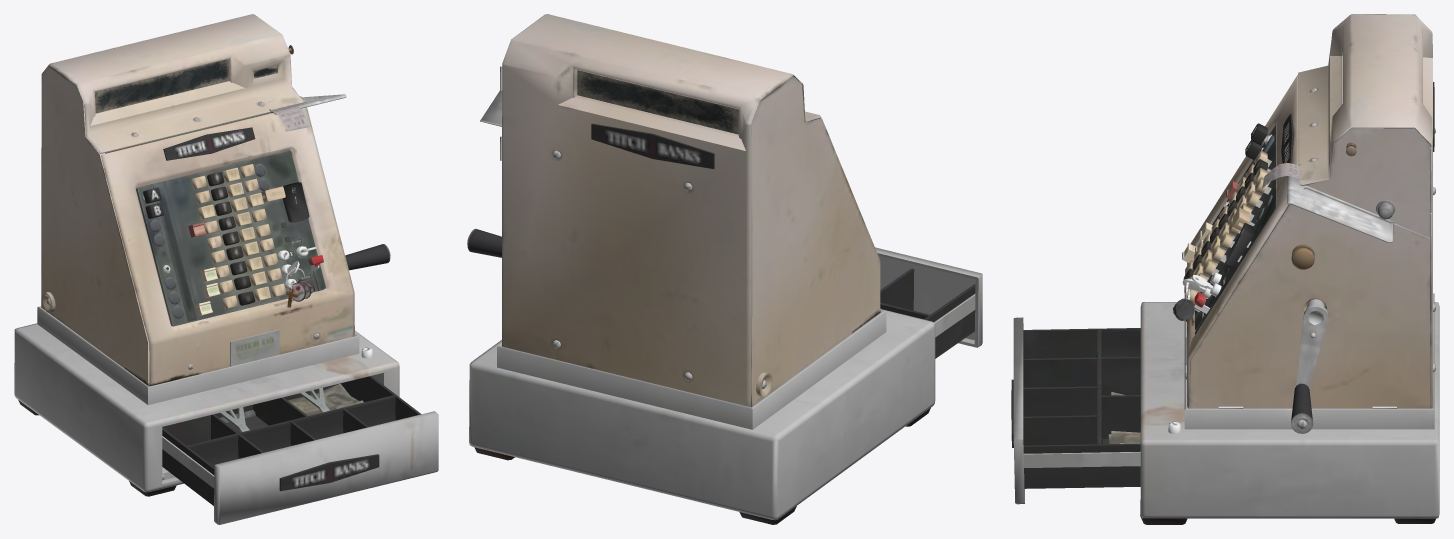
File: CashRegister_01.glb
3 views of the same model, side by side, from view 1: azimuth 30°, elevation 25°; view 2: azimuth 150°, elevation 25°; view 3: azimuth 270°, elevation 25° (orthographic). The views are drawn at different scales.
Parts seen in each view (by area): view 1: CashRegister_01_body, CashRegister_011_drawer; view 2: CashRegister_01_body, CashRegister_011_drawer; view 3: CashRegister_01_body, CashRegister_011_drawer.
Boxes of the visible parts, x1=… form: CashRegister_01_body: x1=14, y1=14, x2=399, y2=496; CashRegister_011_drawer: x1=162, y1=376, x2=438, y2=524; CashRegister_01_body: x1=467, y1=14, x2=935, y2=524; CashRegister_011_drawer: x1=875, y1=247, x2=982, y2=358; CashRegister_01_body: x1=1140, y1=14, x2=1439, y2=524; CashRegister_011_drawer: x1=1011, y1=317, x2=1140, y2=504.
Size of the model in its own units: 0.6005 by 0.6211 by 0.6242.
Materials: 2 (2 with a texture image).
